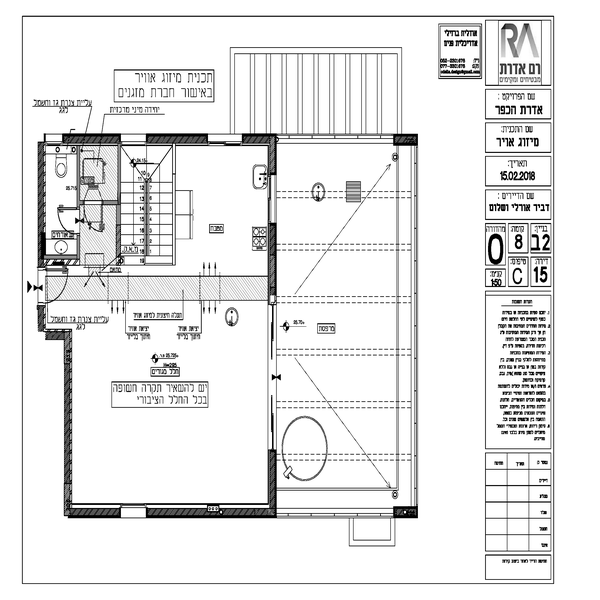room: (22, 130, 282, 341), (50, 332, 278, 525)
wall: (60, 330, 77, 514), (34, 145, 49, 277), (266, 452, 284, 516), (66, 504, 122, 524), (147, 509, 283, 517), (57, 133, 125, 148), (147, 132, 207, 149), (267, 226, 277, 293), (243, 134, 280, 148)
window: (265, 296, 277, 453), (264, 171, 282, 222), (207, 134, 239, 152), (121, 133, 148, 149)
